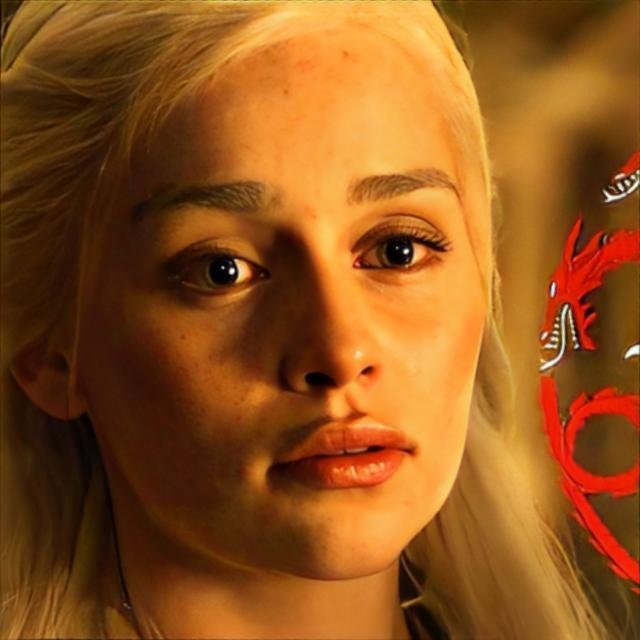neutral: (78, 17, 490, 584)
